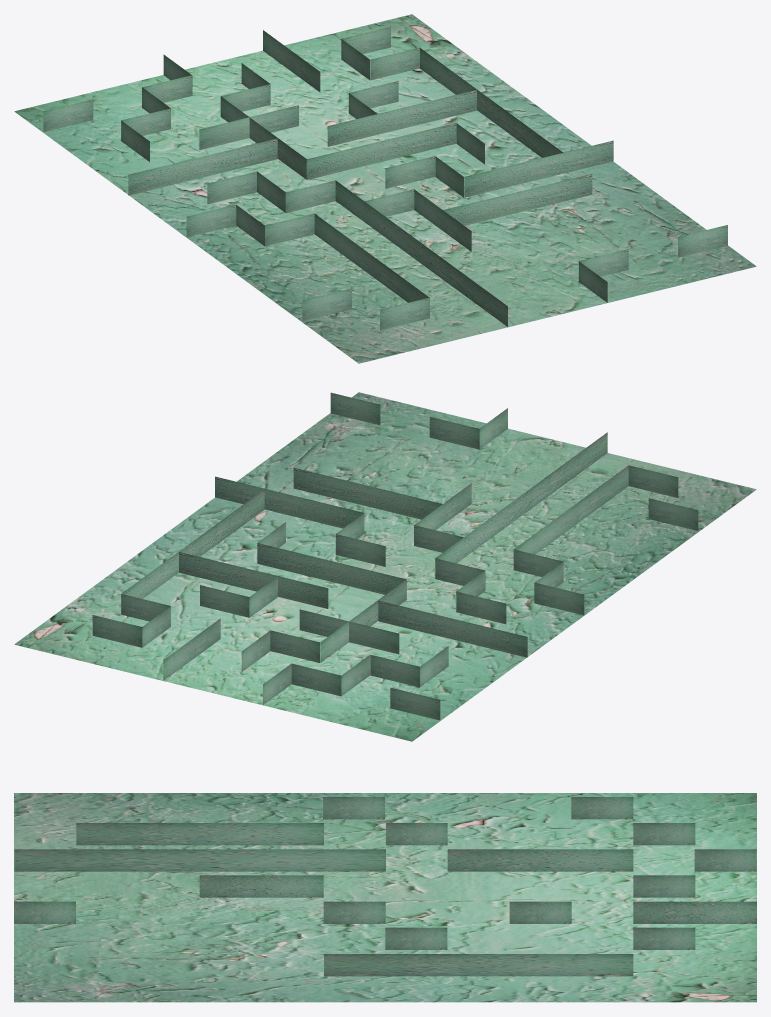
The model's file is maze_hard.gltf.
3 renders of one model, top to bottom at view 1: azimuth 30°, elevation 25°; view 2: azimuth 150°, elevation 25°; view 3: azimuth 270°, elevation 25°, orthographic. The views are drawn at different scales.
Visible parts, largest first — view 1: Plane; view 2: Plane; view 3: Plane.
Boxes of the visible parts, x1,y1,x2,y2 form: Plane: [14, 14, 756, 363]; Plane: [14, 392, 756, 741]; Plane: [14, 793, 756, 1002].
Bounding box in the file's own units: 40.08 × 2 × 60.
Materials: 1 (1 with a texture image).
